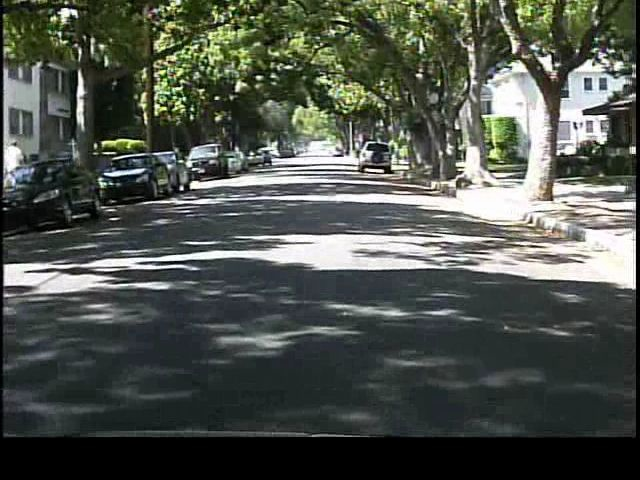person: (4, 137, 30, 204)
